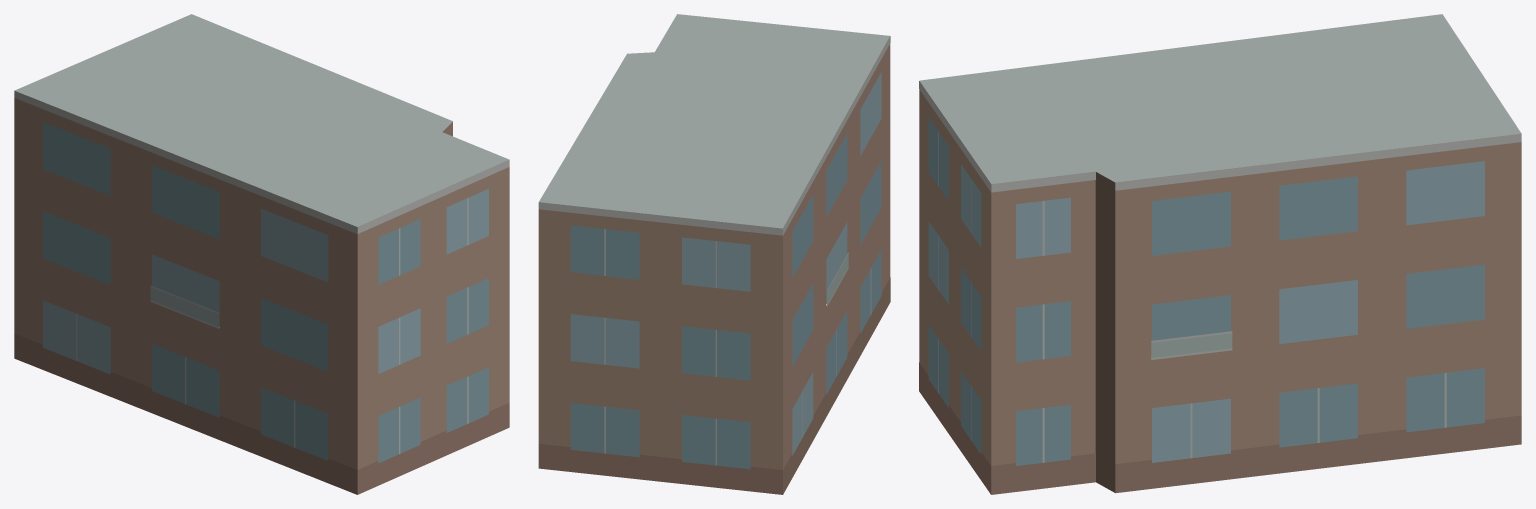
The model's file is survey-upis-32950508.glb.
3 views of the same model, side by side, from view 1: azimuth 30°, elevation 25°; view 2: azimuth 150°, elevation 25°; view 3: azimuth 270°, elevation 25° (orthographic). The views are drawn at different scales.
Visible parts, largest first — view 1: survey-upis-32950508.tmp; view 2: survey-upis-32950508.tmp; view 3: survey-upis-32950508.tmp.
Part boxes in pixels (box(x1,y1,x2,y2)): survey-upis-32950508.tmp: box(14, 14, 509, 494); survey-upis-32950508.tmp: box(538, 14, 890, 494); survey-upis-32950508.tmp: box(919, 14, 1521, 494).
Bounding box in the file's own units: 10.77 × 9.15 × 16.1.
